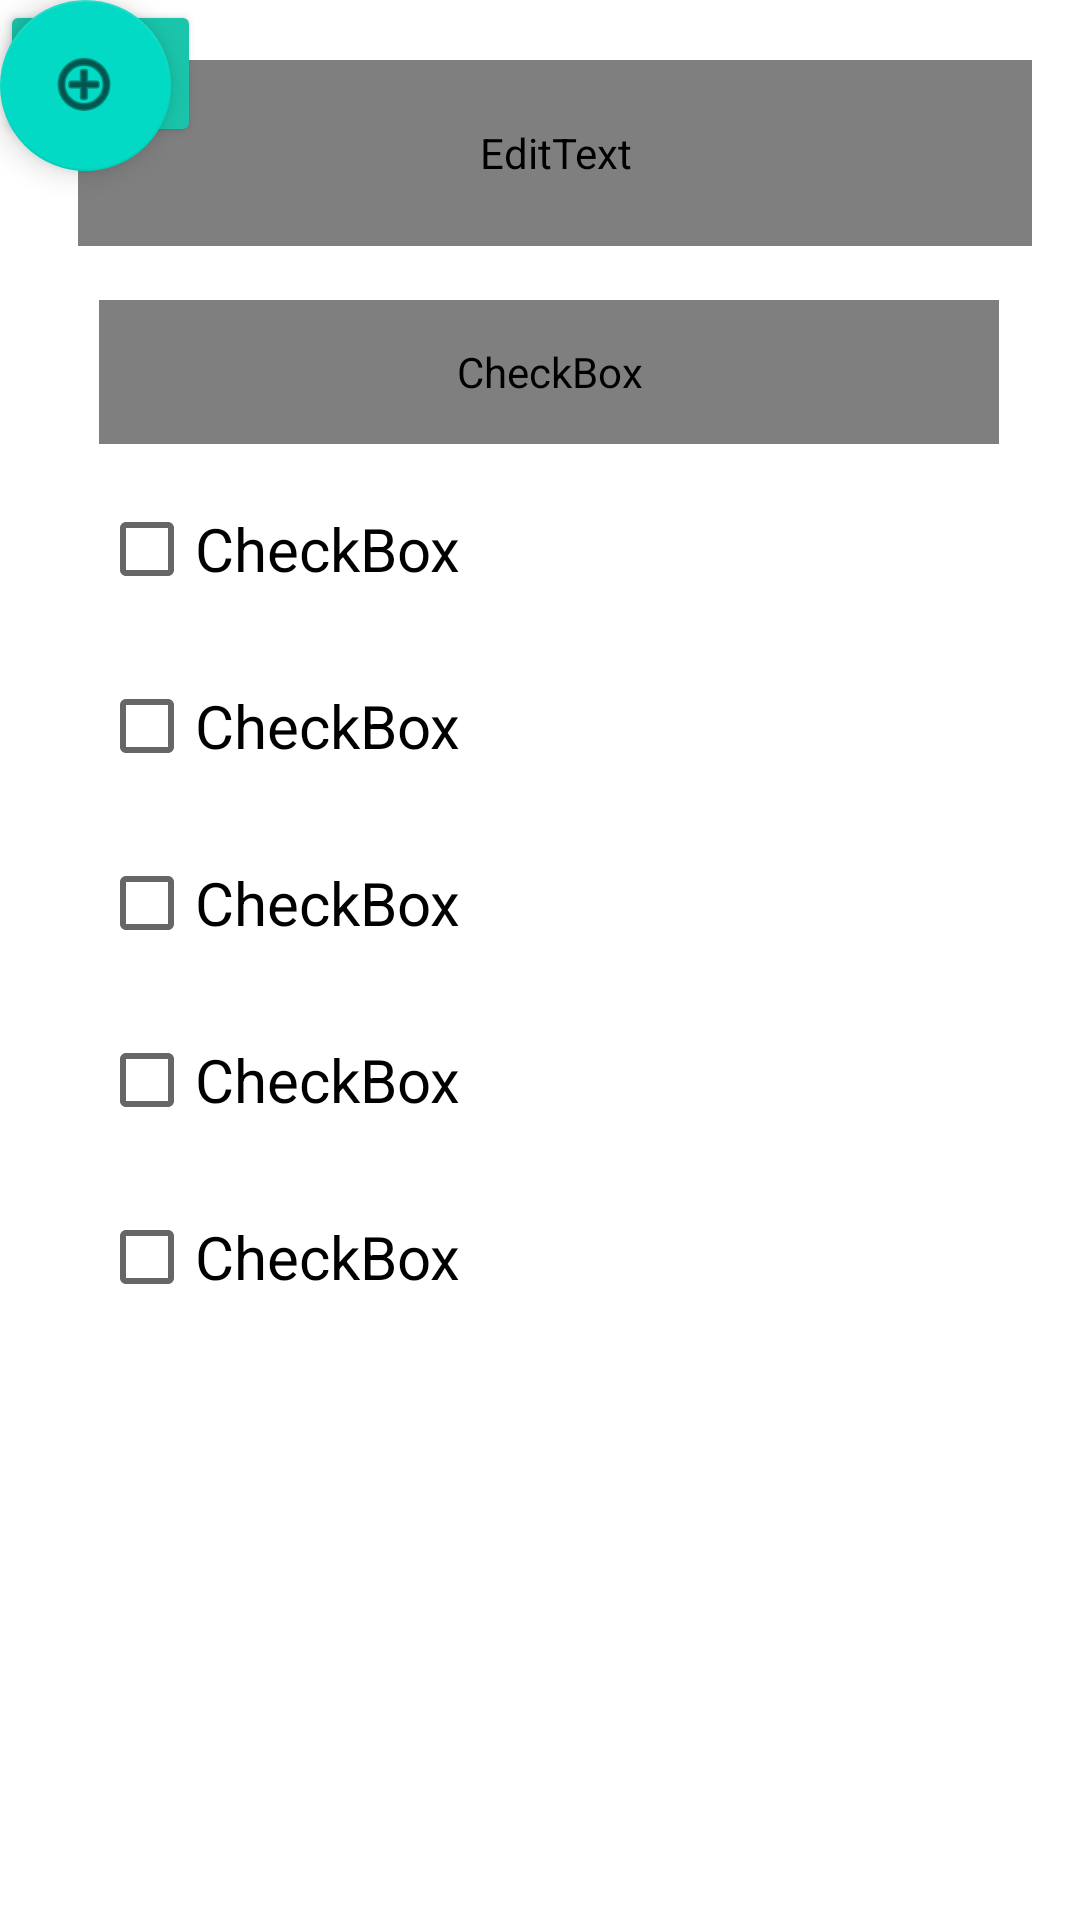

Icons on this 1080*1920 Android screen, each with the point to tap as (x=x, y=y):
add: (x=85, y=85)
